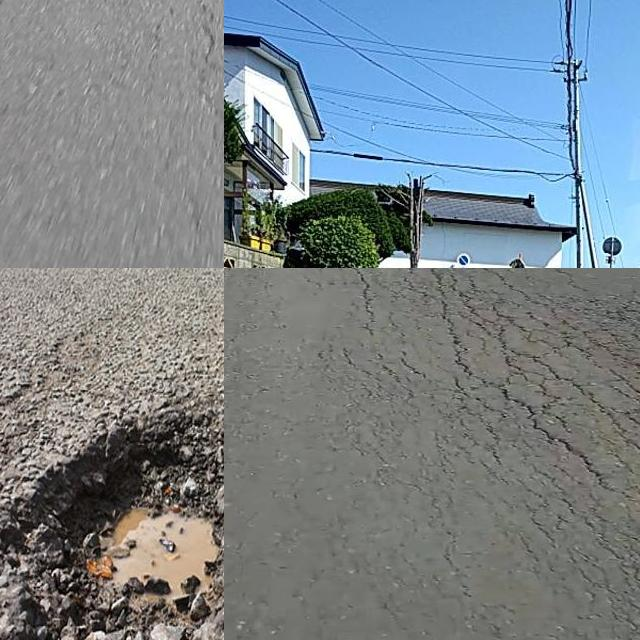Lubang: (11, 414, 224, 640)
Retak Buaya: (365, 268, 640, 505)
